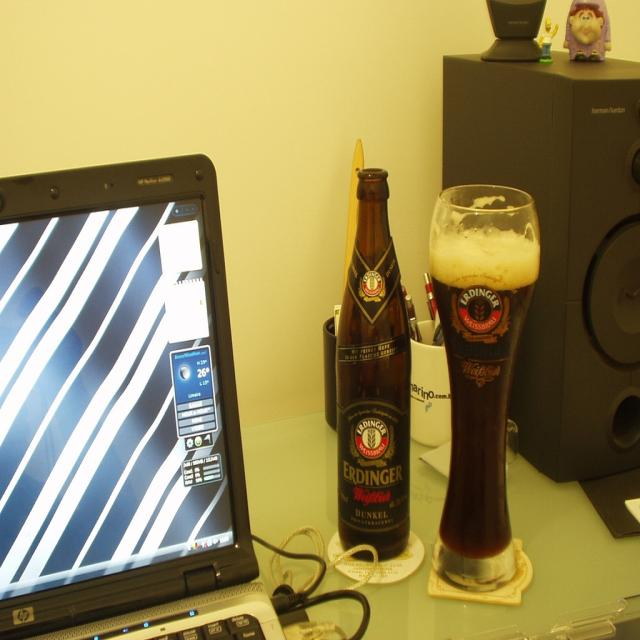erdinger: (339, 409, 409, 491), (449, 275, 515, 349), (357, 268, 389, 309)
